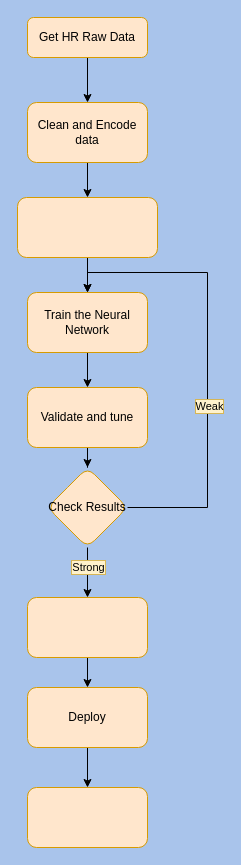
Image size: 241x865. Some labels were removed from this diagram. Each missing label, with the centre of its shape:
"Monitor and Retrain Every Year" goes at (x=87, y=817).
"Split data into 70/15/15 sets for training/validation/testing" goes at (x=87, y=227).
"Test on Unseen Data and Evaluate Metrics" goes at (x=87, y=627).
